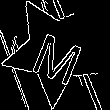M_N: (26, 18, 87, 83)
